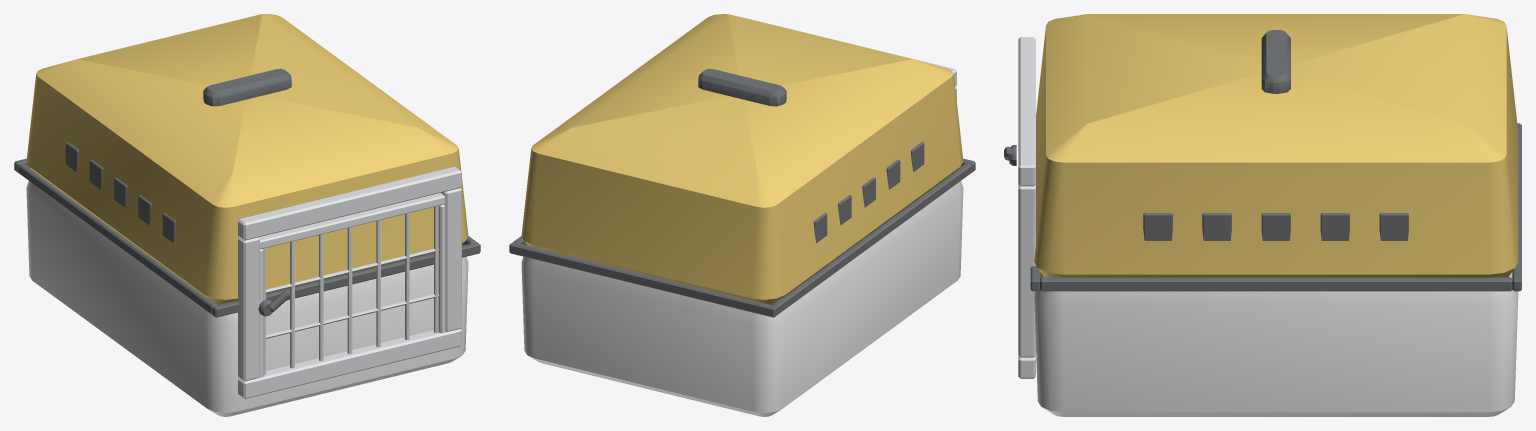
The model's file is clinic-and-veterinary-practice-animal-transport-crate-bbea9bc0__16817.glb.
3 renders of one model, left to right at view 1: azimuth 30°, elevation 25°; view 2: azimuth 150°, elevation 25°; view 3: azimuth 270°, elevation 25°, orthographic. The views are drawn at different scales.
Parts seen in each view (by area): view 1: animal-transport-crate, door; view 2: animal-transport-crate; view 3: animal-transport-crate, door.
Boxes of the visible parts, x1,y1,x2,y2 form: animal-transport-crate: [14, 14, 480, 416]; door: [238, 166, 461, 398]; animal-transport-crate: [509, 14, 975, 416]; animal-transport-crate: [1030, 14, 1521, 416]; door: [1018, 37, 1035, 378].
Size of the model in its own units: 0.632 by 0.55 by 0.877.
